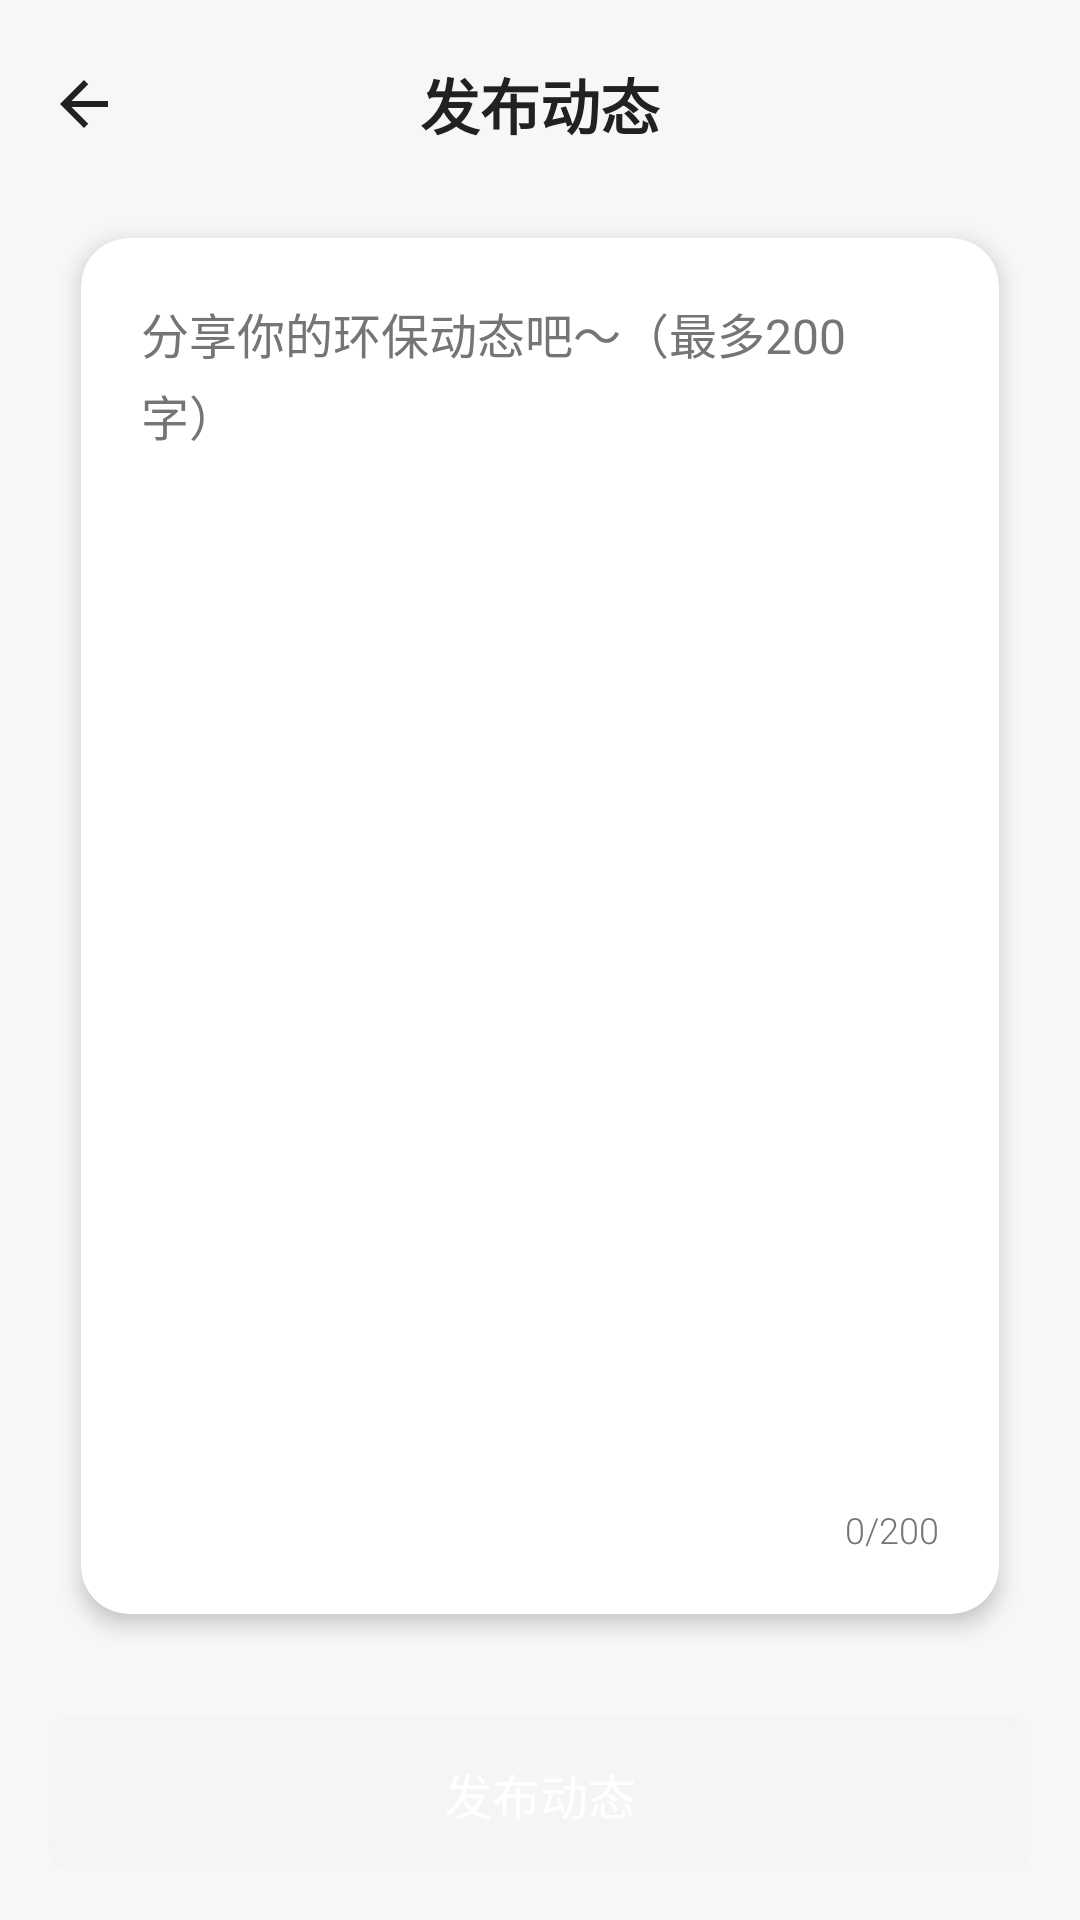

Icons on this 1080 x 1920 Android screen, each with its box as (x1, y1, x2, y2):
arrow back: (60, 80, 108, 128)
